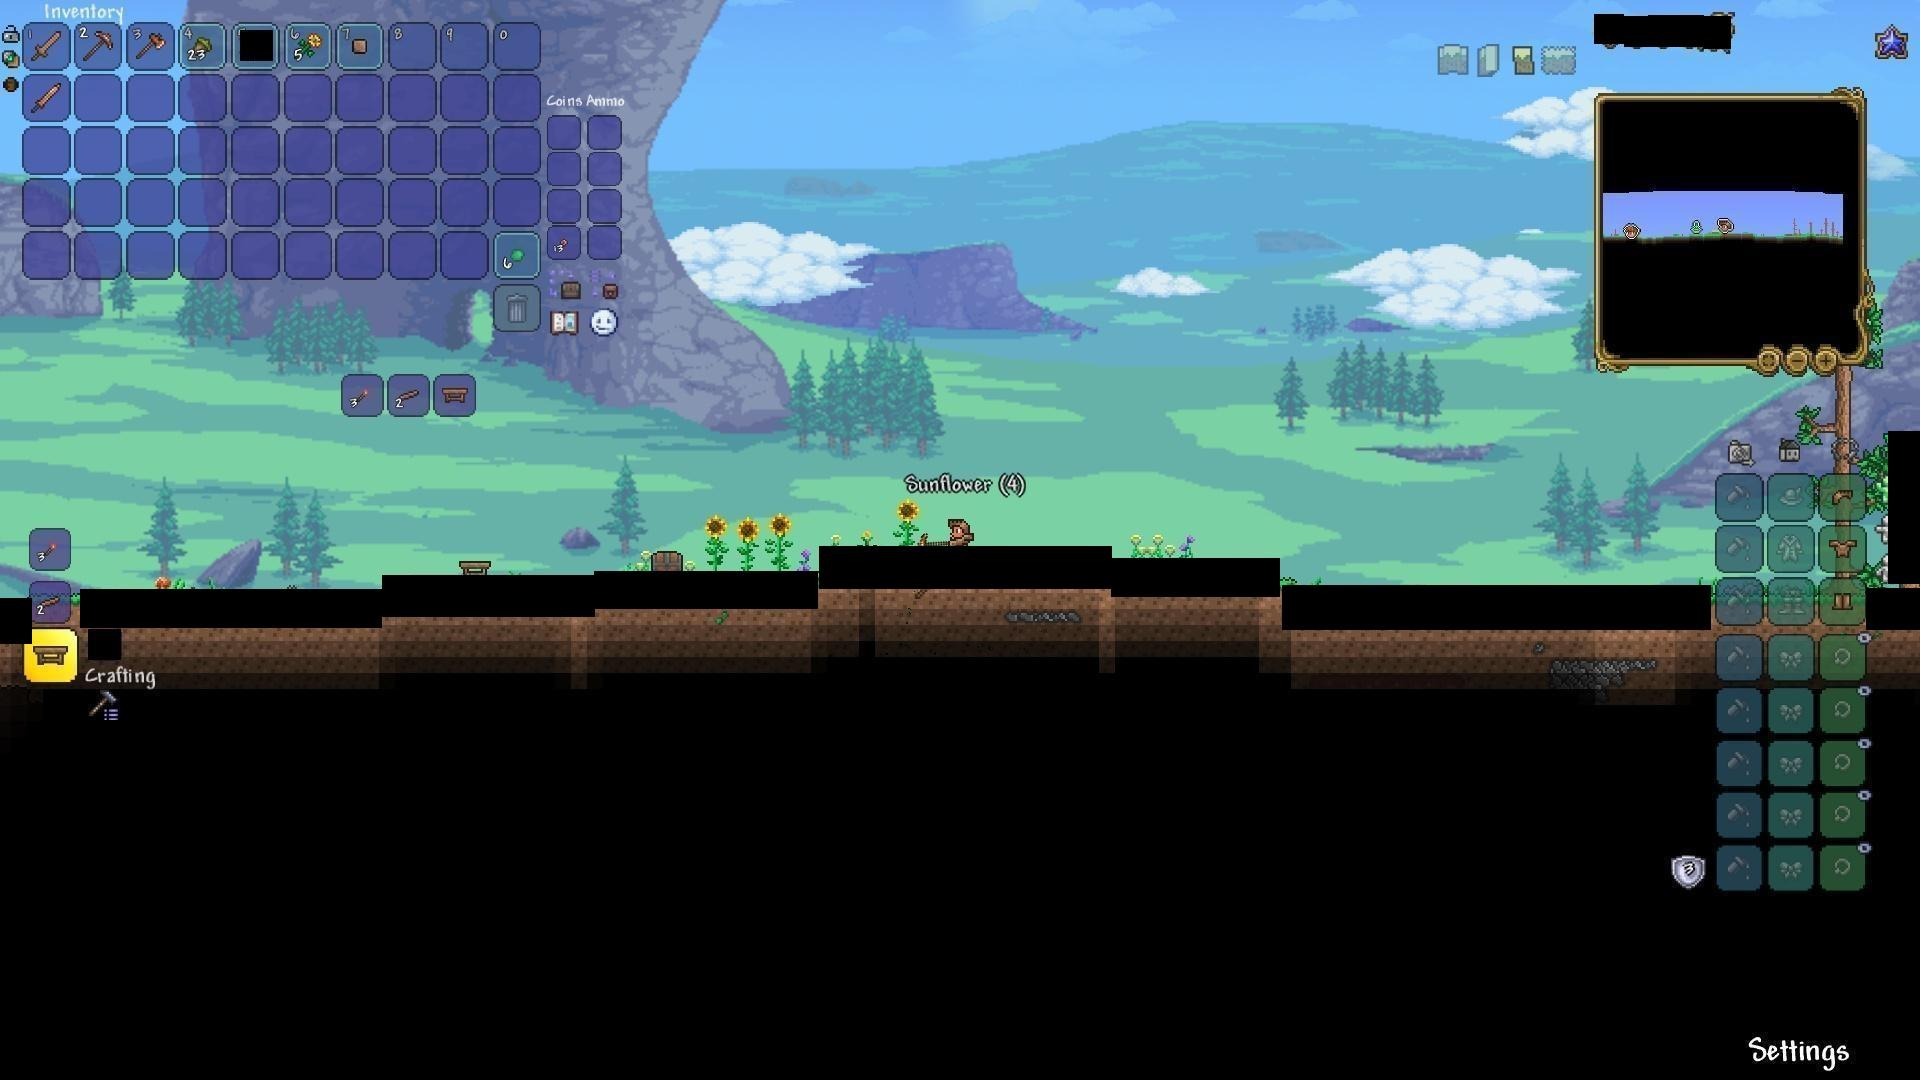breastplate: (1829, 537, 1857, 556)
helmet: (1826, 483, 1857, 510)
legs: (1832, 585, 1857, 615)
workbench: (32, 641, 69, 666), (436, 382, 473, 407), (458, 559, 495, 580)
